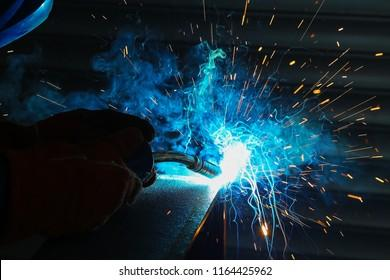gloves: (1, 105, 160, 238)
